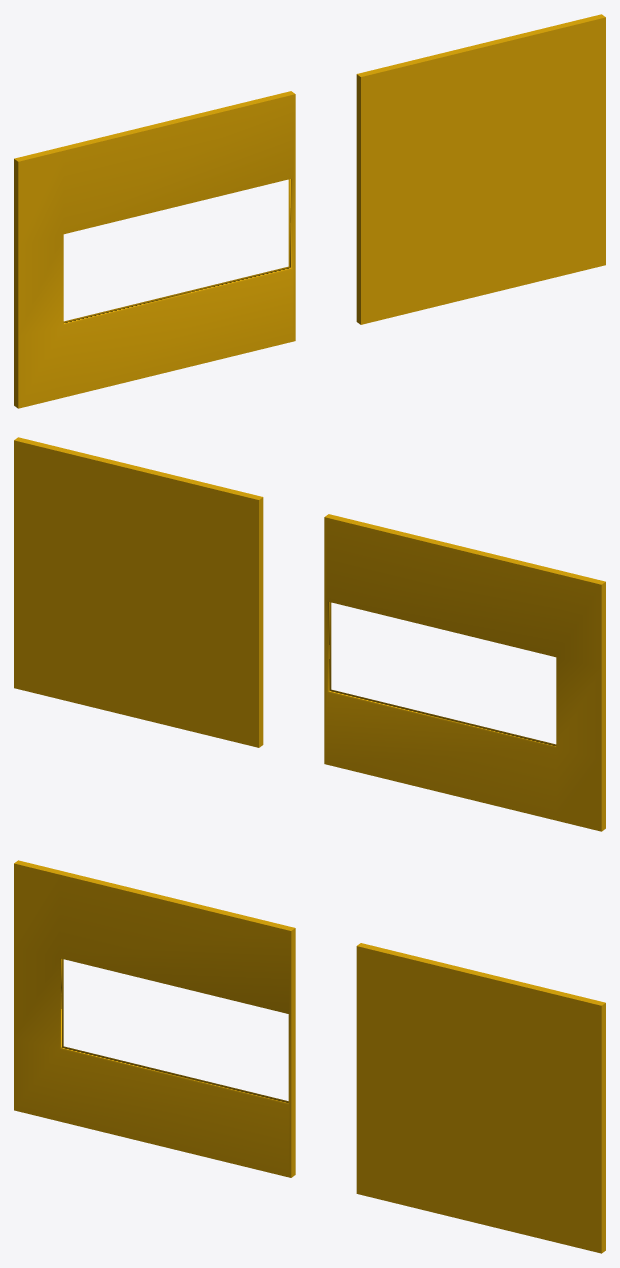
Rendered from BH03_Wall_05_Break_B_Collider.fbx.
3 renders of one model, top to bottom at view 1: azimuth 30°, elevation 25°; view 2: azimuth 150°, elevation 25°; view 3: azimuth 330°, elevation 25°, orthographic.
Parts seen in each view (by area): view 1: BH03_Wall_05_Break_B_Collider; view 2: BH03_Wall_05_Break_B_Collider; view 3: BH03_Wall_05_Break_B_Collider.
Boxes of the visible parts, <box> form: BH03_Wall_05_Break_B_Collider: <box>14,14,605,408</box>; BH03_Wall_05_Break_B_Collider: <box>14,437,605,831</box>; BH03_Wall_05_Break_B_Collider: <box>14,860,605,1253</box>.
Bounding box in the file's own units: 856 × 345 × 10.81.
